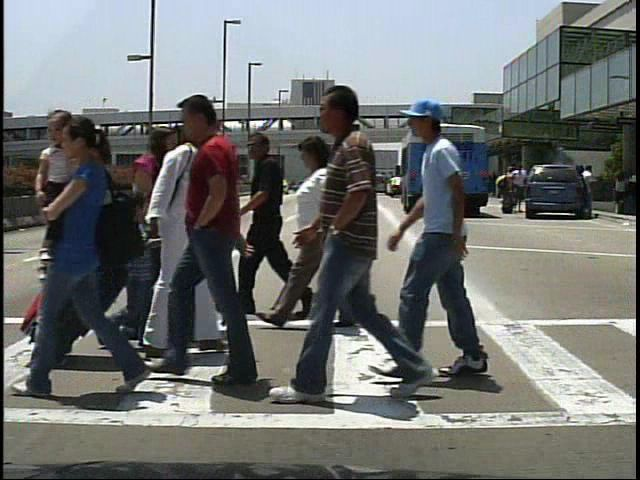person: (296, 84, 435, 424), (118, 107, 231, 364), (169, 92, 267, 387), (409, 103, 498, 381), (148, 123, 240, 345), (279, 135, 361, 333), (238, 122, 310, 323), (130, 118, 186, 362), (119, 191, 161, 327), (582, 165, 602, 218), (498, 166, 516, 219), (512, 165, 529, 215)
